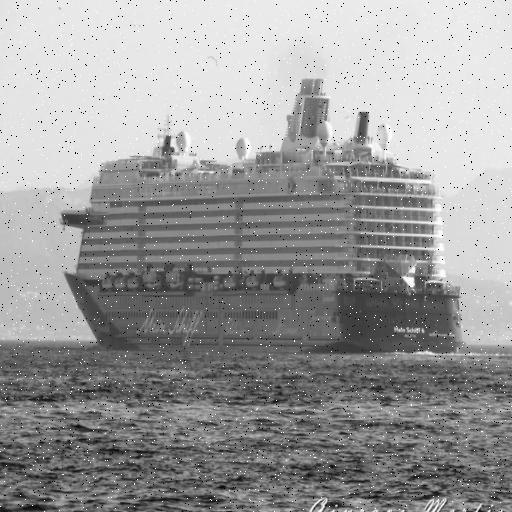cruises: (56, 78, 472, 359)
